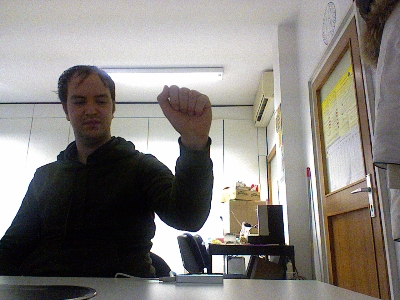石头: (155, 84, 212, 140)
